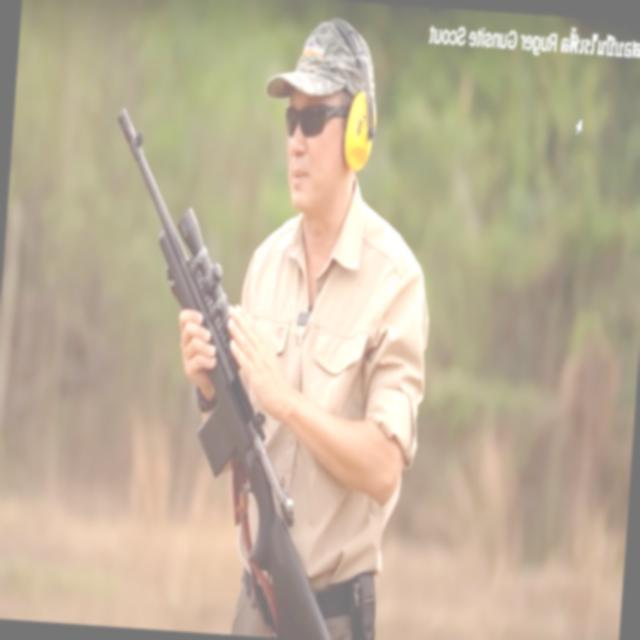rifle: (75, 88, 379, 640)
